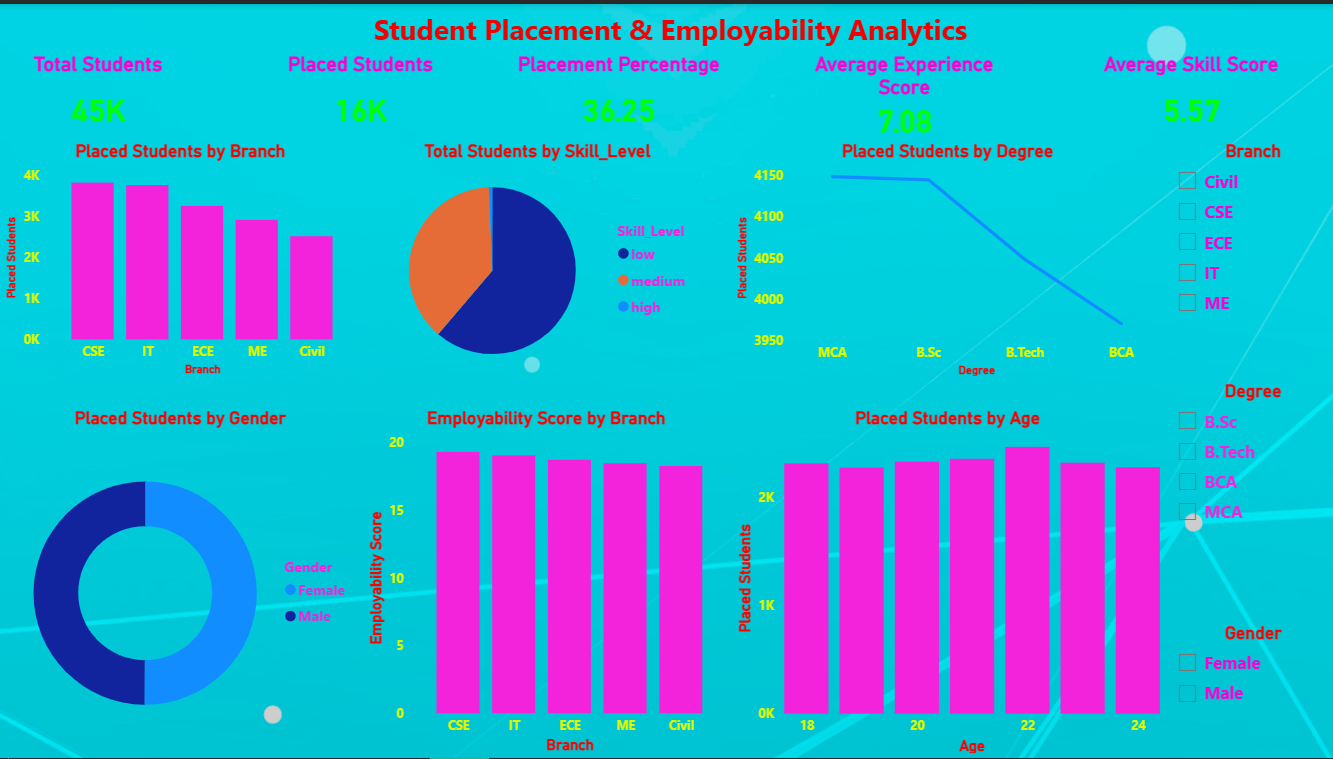

This screenshot's page, from the dashboard's own definition file:
{"tool":"powerbi","page":{"name":"Student Placement & Employability Analysis Dashboard","canvas":[1280,720],"ordinal":0},"visuals":[{"type":"textbox","box":[0,0,1280.5,46.4],"z":0},{"type":"card","title":"Total Students","fields":{"Values":["cleaned_placement_data.Total Students"]},"box":[0,46.4,187.2,84.5],"z":1000},{"type":"card","title":"Placed Students","fields":{"Values":["cleaned_placement_data.Placed Students"]},"box":[250.1,46.4,187.2,84.5],"z":1001},{"type":"card","title":"Placement Percentage","fields":{"Values":["cleaned_placement_data.Placement Percentage"]},"box":[483.7,46.4,213.7,84.5],"z":1002},{"type":"card","title":"Average Experience Score","fields":{"Values":["cleaned_placement_data.Average Experience Score"]},"box":[758.7,46.4,208.7,84.5],"z":1003},{"type":"card","title":"Average Skill Score","fields":{"Values":["cleaned_placement_data.Average Skill Score"]},"box":[1020.4,46.4,235.2,84.5],"z":1004},{"type":"clusteredColumnChart","fields":{"Category":["cleaned_placement_data.Branch"],"Y":["cleaned_placement_data.Placed Students"]},"box":[0,130.9,344.5,228.6],"z":1005},{"type":"donutChart","fields":{"Category":["cleaned_placement_data.Gender"],"Y":["cleaned_placement_data.Placed Students"]},"box":[0,386,344.5,334.6],"z":1006},{"type":"pieChart","fields":{"Category":["cleaned_placement_data.Skill_Level"],"Y":["cleaned_placement_data.Total Students"]},"box":[344.5,130.9,336.3,228.6],"z":1007},{"type":"columnChart","fields":{"Category":["cleaned_placement_data.Branch"],"Y":["cleaned_placement_data.Employability Score"]},"box":[344.5,386,352.8,334.6],"z":1008},{"type":"lineChart","fields":{"Category":["cleaned_placement_data.Degree"],"Y":["cleaned_placement_data.Placed Students"]},"box":[697.8,130.1,414.8,229.3],"z":1009},{"type":"slicer","title":"Branch","fields":{"Values":["cleaned_placement_data.Branch"]},"box":[1112.6,130.1,167.5,177.3],"z":1011},{"type":"slicer","title":"Degree","fields":{"Values":["cleaned_placement_data.Degree"]},"box":[1112.6,359.5,167.5,144.8],"z":1012},{"type":"slicer","title":"Gender","fields":{"Values":["cleaned_placement_data.Gender"]},"box":[1112.6,590.4,167.5,100.8],"z":1013},{"type":"columnChart","fields":{"Category":["cleaned_placement_data.Age"],"Y":["cleaned_placement_data.Placed Students"]},"box":[697.8,385.5,414.8,335.1],"z":1015}]}

Visuals, with their boxes in screenshot pixels (x1, y1, x2, y2), scaled from the page's 1280x720 canvas onto the 1333x759 screenshot:
textbox: (0,0,1332,49)
"Total Students" card: (0,49,195,138)
"Placed Students" card: (260,49,455,138)
"Placement Percentage" card: (504,49,726,138)
"Average Experience Score" card: (790,49,1007,138)
"Average Skill Score" card: (1063,49,1308,138)
clusteredColumnChart - cleaned_placement_data.Branch x cleaned_placement_data.Placed Students: (0,138,359,379)
donutChart - cleaned_placement_data.Gender x cleaned_placement_data.Placed Students: (0,407,359,758)
pieChart - cleaned_placement_data.Skill_Level x cleaned_placement_data.Total Students: (359,138,709,379)
columnChart - cleaned_placement_data.Branch x cleaned_placement_data.Employability Score: (359,407,726,758)
lineChart - cleaned_placement_data.Degree x cleaned_placement_data.Placed Students: (727,137,1159,379)
"Branch" slicer: (1159,137,1332,324)
"Degree" slicer: (1159,379,1332,532)
"Gender" slicer: (1159,622,1332,729)
columnChart - cleaned_placement_data.Age x cleaned_placement_data.Placed Students: (727,406,1159,758)
